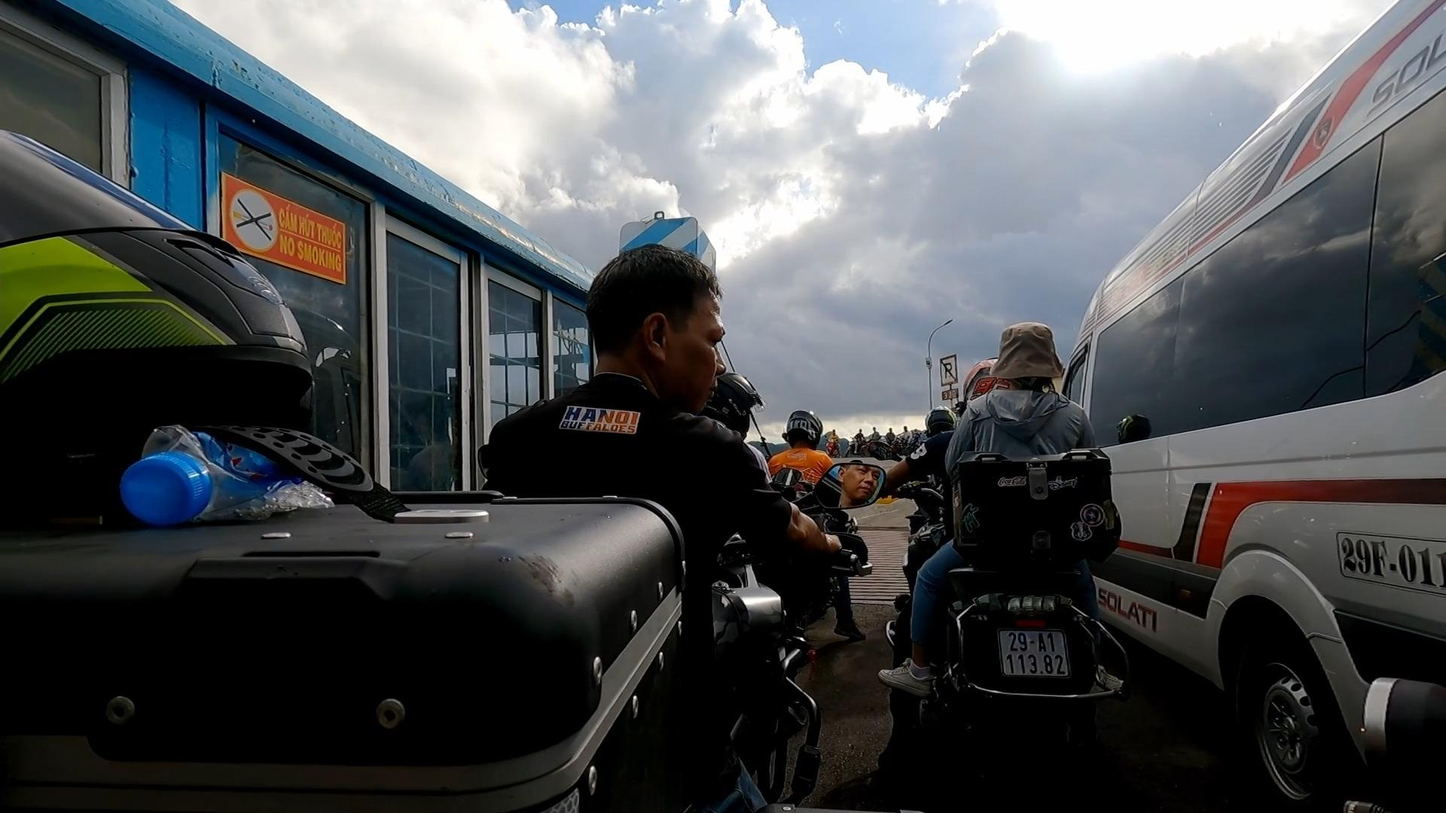driver: (2, 126, 886, 813), (870, 320, 1135, 813)
helmet: (701, 371, 768, 441), (963, 357, 1011, 405), (786, 409, 824, 450), (925, 406, 957, 435)
no-helmet: (585, 242, 727, 415), (989, 323, 1064, 392)
